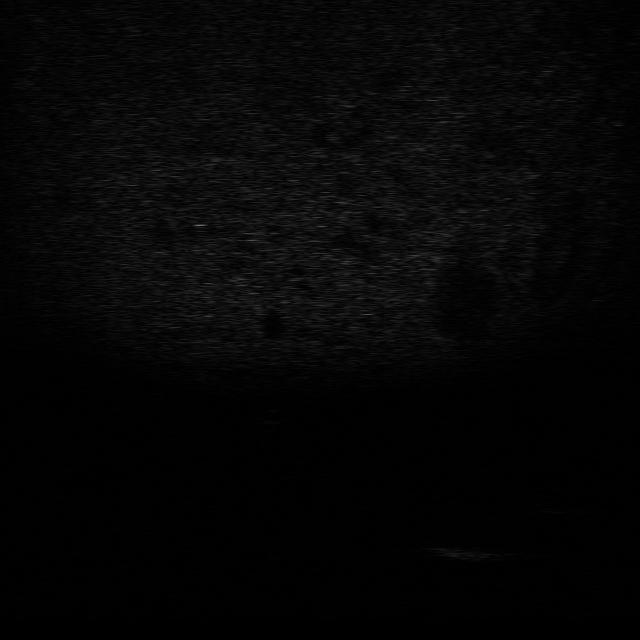ball: (252, 406, 292, 427)
metal bucket: (420, 539, 512, 566)
tyre: (539, 485, 589, 515)
